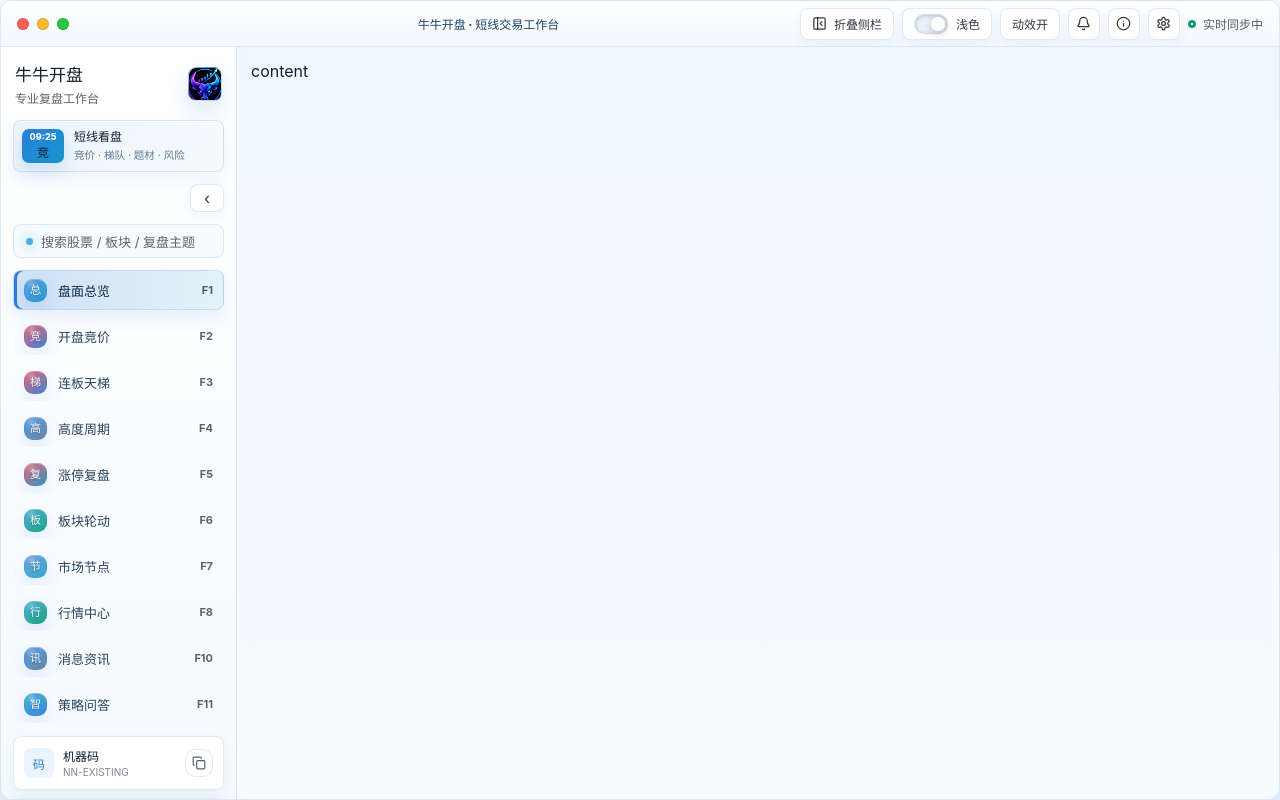
Test: AppShell › opens about dialog and checks updates from the version label
Click the button named "关于牛牛开盘": [1124, 24] box top-left (1108, 8), bottom-right (1140, 40)
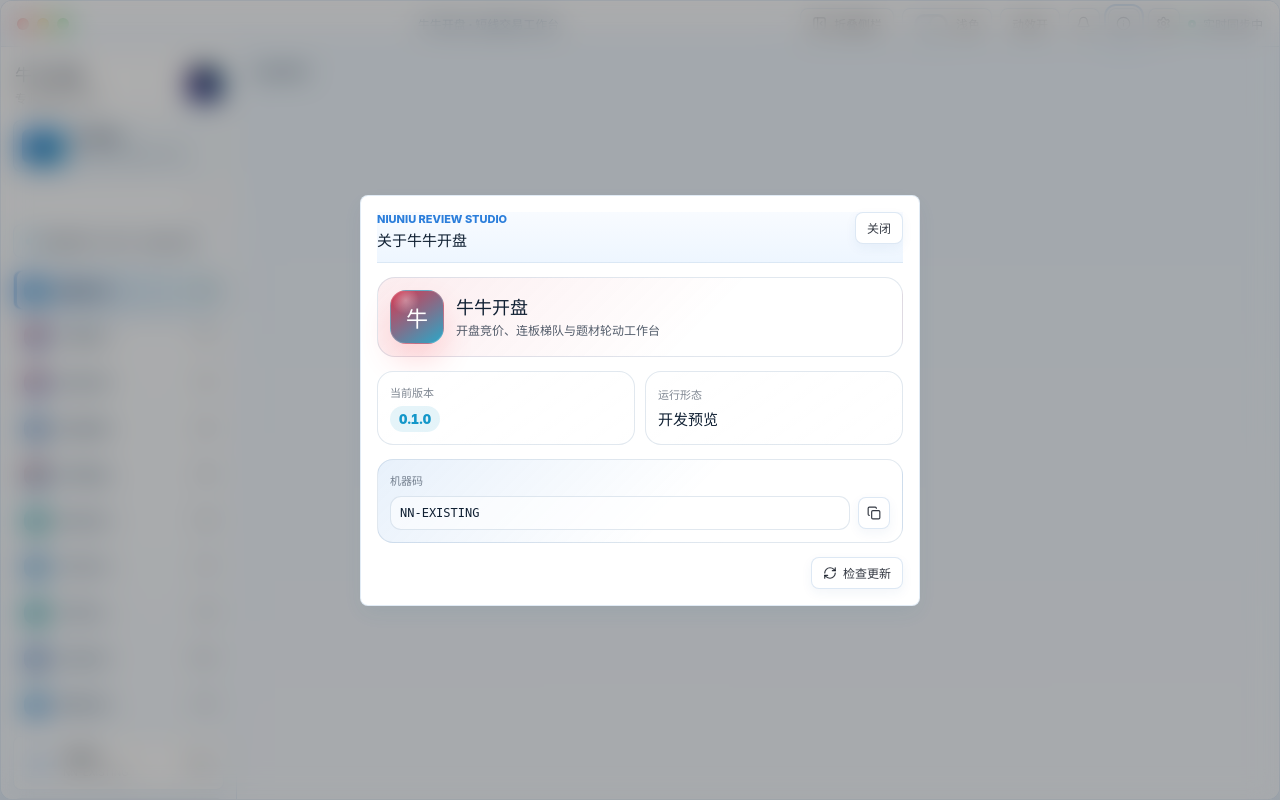
Expected: the dialog "关于牛牛开盘" is shown, top-left (360, 194), bottom-right (920, 606)
Click the button "0.1.0": [415, 418] box top-left (390, 406), bottom-right (440, 432)
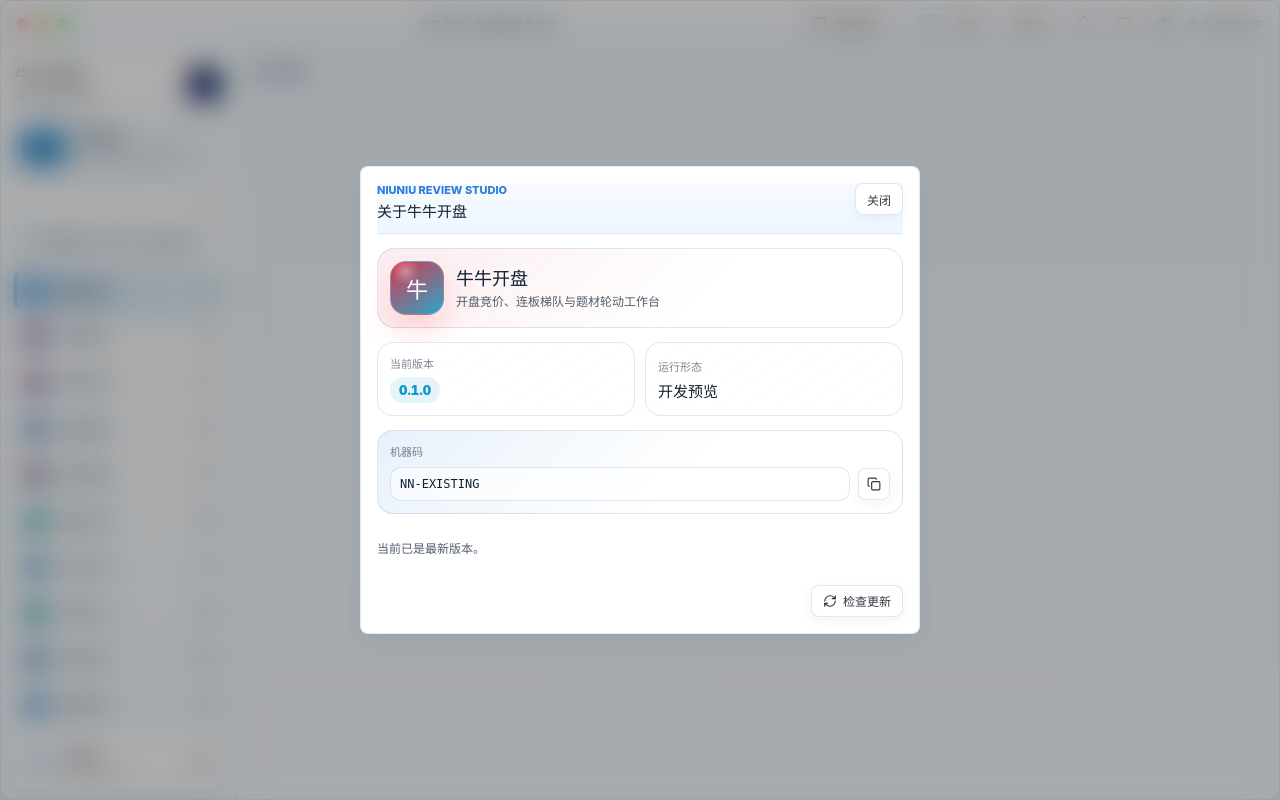
Expected: the text "当前已是最新版本。" is shown, top-left (377, 541), bottom-right (485, 556)
